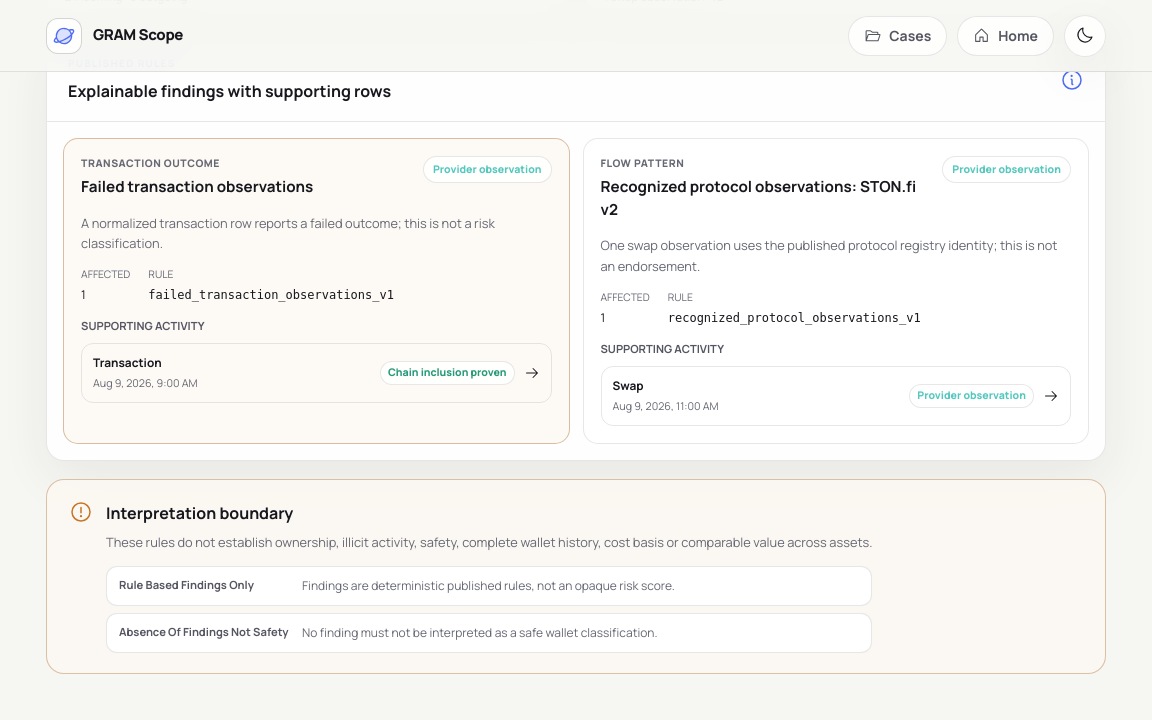
Test: Wallet Case application flow › deep-links pinned Findings and follows a supporting row back to Activity
The width and height of the screenshot is (1152, 720).
(page scrolled)
Check: the heading "Explainable findings with supporting rows" is shown, box x1=68 y1=79 x2=391 y2=103
Click the link "transaction Aug 9, 2026, 9:00 AM Chain inclusion proven": (127, 363) x1=82 y1=344 x2=550 y2=402
(page scrolled)
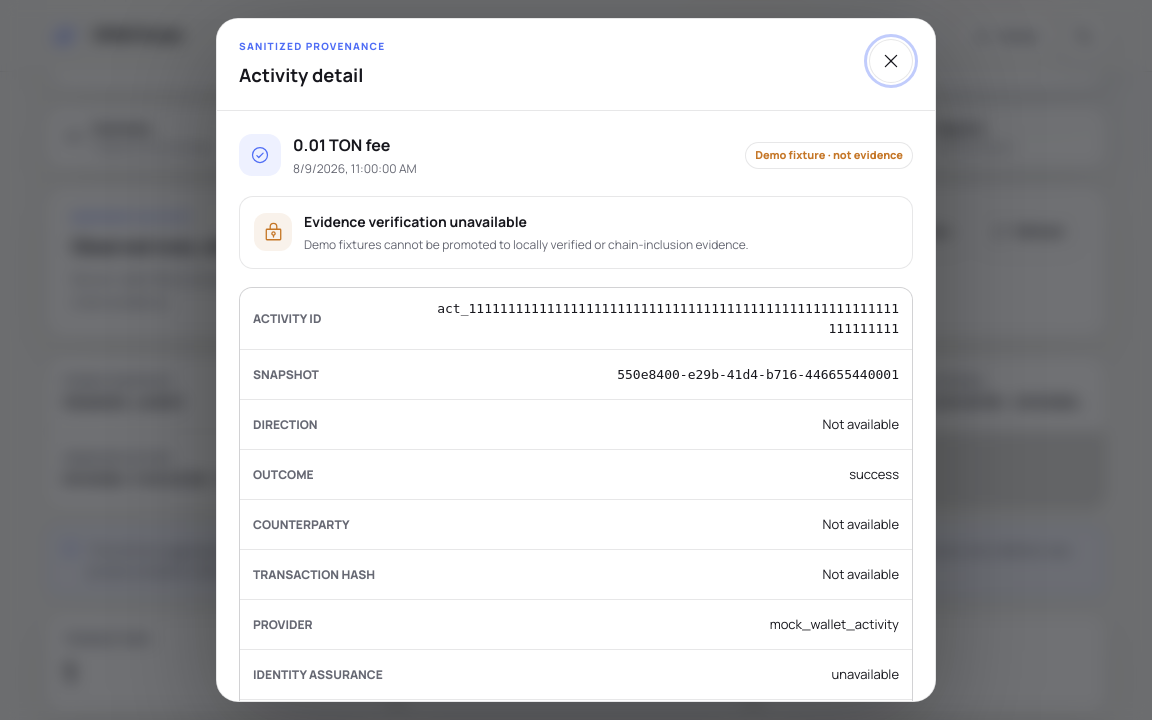
Check: the dialog "Activity detail" is shown, box x1=216 y1=18 x2=936 y2=702
